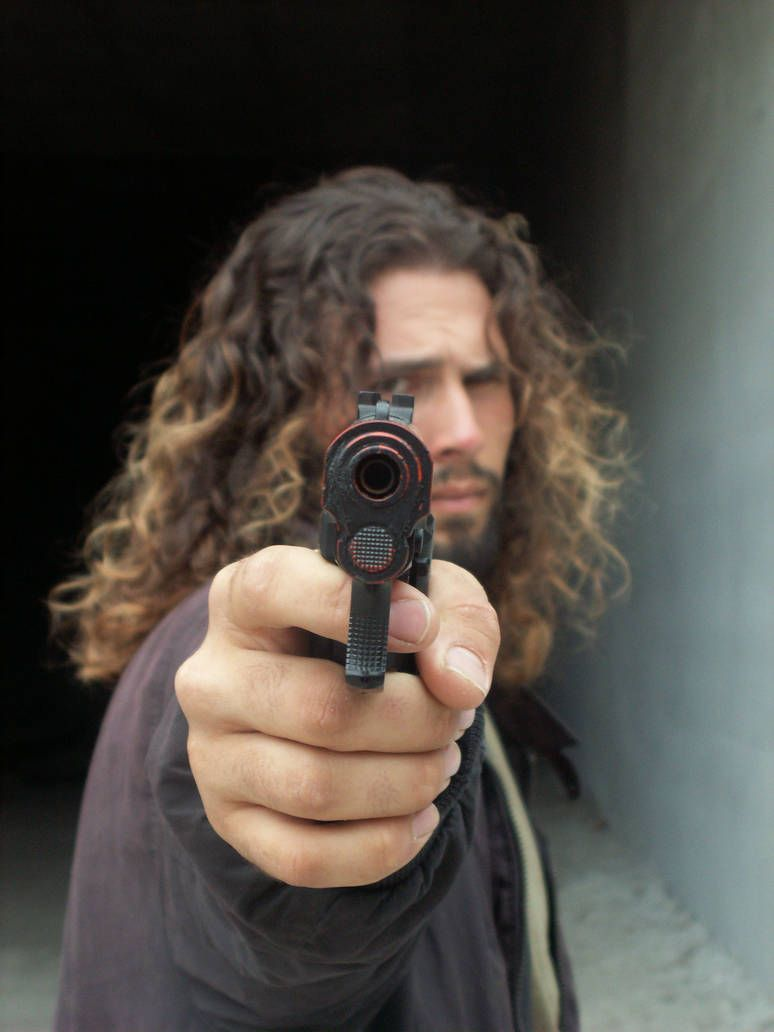gun: (318, 382, 443, 704)
